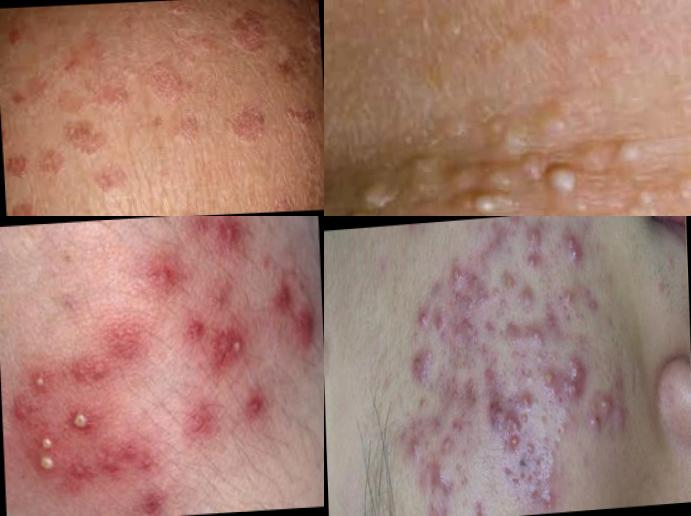blackhead: (524, 364, 538, 391)
flat_wart: (224, 8, 273, 56), (230, 102, 270, 150), (284, 92, 309, 138)
folliculitis: (221, 322, 253, 371), (32, 431, 59, 477), (67, 404, 95, 438), (32, 371, 49, 394)
milium: (326, 88, 691, 217)
papular: (269, 274, 321, 357), (183, 402, 222, 444), (430, 466, 454, 516), (147, 264, 180, 298), (239, 391, 271, 424), (214, 221, 244, 255), (438, 430, 460, 457), (586, 410, 608, 431), (434, 312, 449, 338)
purulent: (450, 250, 465, 288), (556, 288, 578, 313), (525, 217, 542, 245), (409, 437, 425, 461), (520, 392, 537, 414), (546, 364, 557, 395), (526, 254, 539, 280), (509, 432, 523, 454), (530, 327, 545, 347), (506, 269, 517, 293)
sebo-crystan-conglo: (453, 290, 488, 342), (559, 348, 587, 409), (486, 393, 520, 431), (411, 340, 436, 387), (559, 231, 586, 269), (537, 481, 562, 509), (597, 388, 615, 414), (414, 307, 430, 330)
